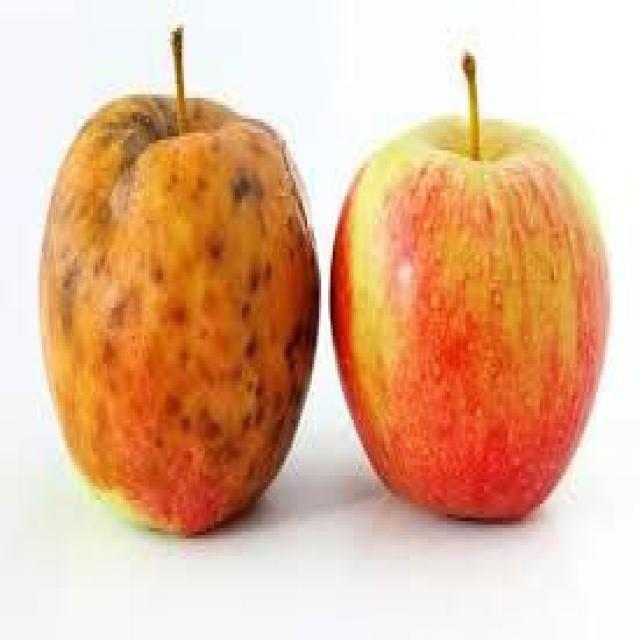fresh_apple: (330, 112, 610, 518)
rotten_apple: (39, 90, 319, 534)
